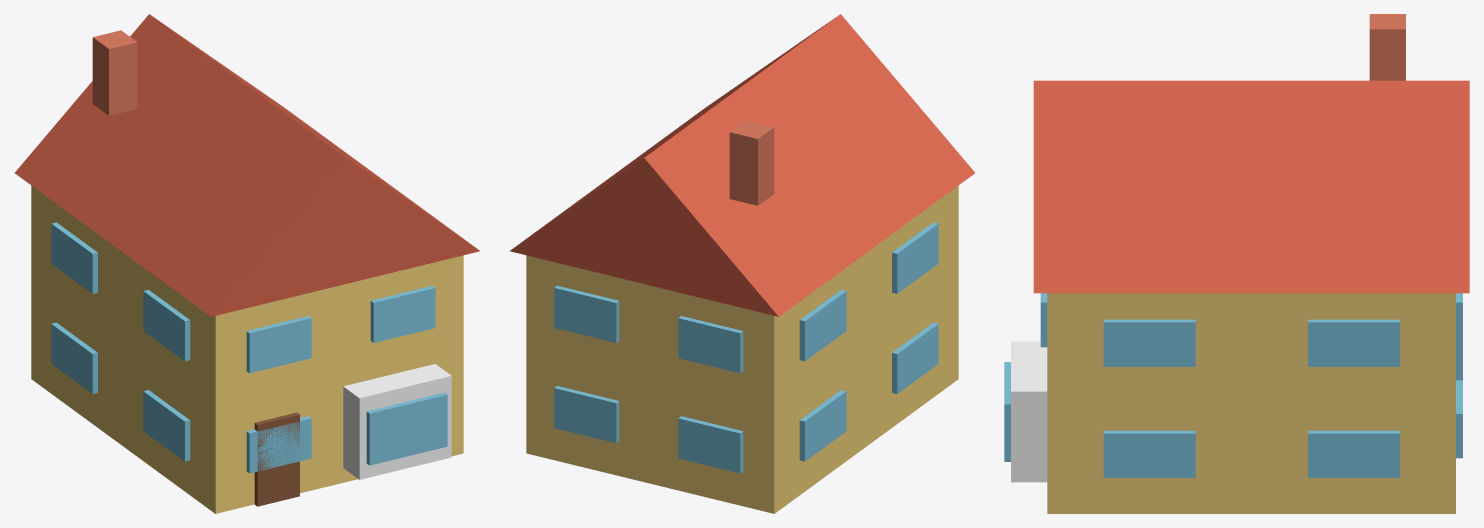
The model's file is house_3.glb.
3 renders of one model, left to right at view 1: azimuth 30°, elevation 25°; view 2: azimuth 150°, elevation 25°; view 3: azimuth 270°, elevation 25°, orthographic. The views are drawn at different scales.
Visible parts, largest first — view 1: house_3_roof_red, house_3_wall_yellow, house_3_window, house_3_white, house_3_brick, house_3_door; view 2: house_3_wall_yellow, house_3_roof_red, house_3_window, house_3_brick; view 3: house_3_roof_red, house_3_wall_yellow, house_3_window, house_3_white, house_3_brick.
Part boxes in pixels (box(x1,y1,x2,y2)): house_3_roof_red: box(15, 14, 480, 316); house_3_wall_yellow: box(31, 185, 463, 513); house_3_window: box(51, 222, 447, 473); house_3_white: box(343, 364, 451, 479); house_3_brick: box(92, 30, 137, 115); house_3_door: box(254, 412, 299, 506); house_3_wall_yellow: box(526, 185, 958, 513); house_3_roof_red: box(509, 14, 974, 316); house_3_window: box(554, 222, 938, 473); house_3_brick: box(729, 120, 774, 205); house_3_roof_red: box(1033, 80, 1469, 293); house_3_wall_yellow: box(1047, 293, 1455, 513); house_3_window: box(1004, 293, 1462, 477); house_3_white: box(1011, 341, 1047, 482); house_3_brick: box(1369, 14, 1405, 80).
Size of the model in its own units: 7.6 by 9.4 by 10.25.
